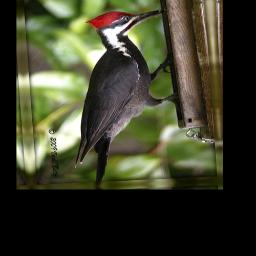Woodpecker: (62, 8, 183, 186)
